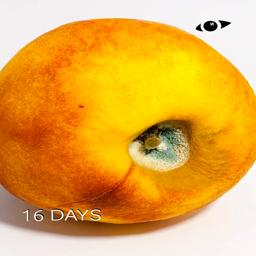Peach Semirotten: (0, 13, 256, 227)
